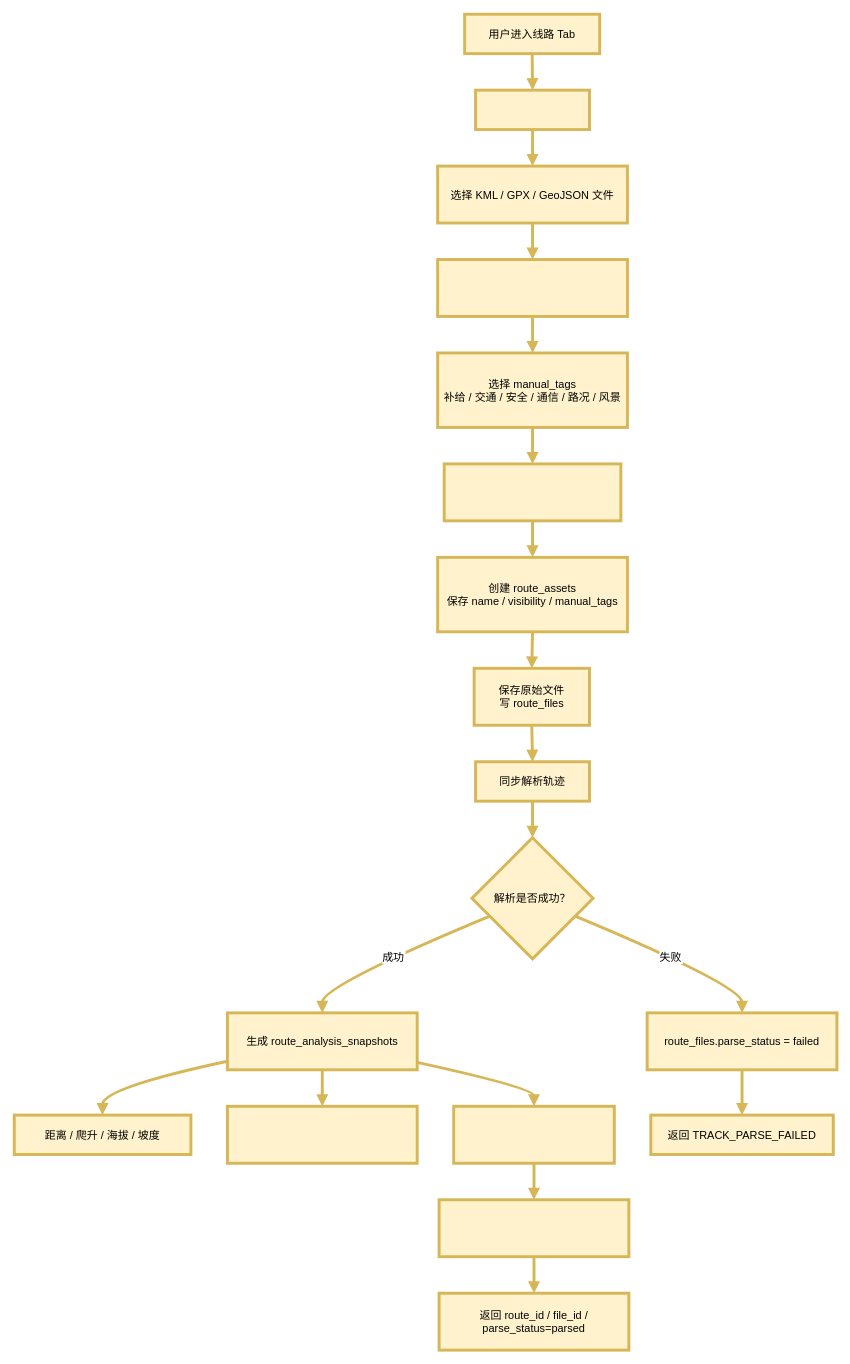
Image size: 850x1364. Some labels were removed from this diagram. The shapes that lost their labels are listed below. From the top down, each one's box as (x1, y1, x2, y2) in pixels, then its label:
(474, 88, 591, 131): 点击上传轨迹
(436, 258, 629, 318): 填写线路名称 / 描述 / visibility
(442, 462, 622, 522): POST /api/routes/upload multipart/form-data
(226, 1104, 418, 1164): start_point / end_point / bounds / center_point
(452, 1104, 615, 1164): track_geojson 简化轨迹用于地图渲染
(437, 1198, 630, 1258): route_files.parse_status = parsed
